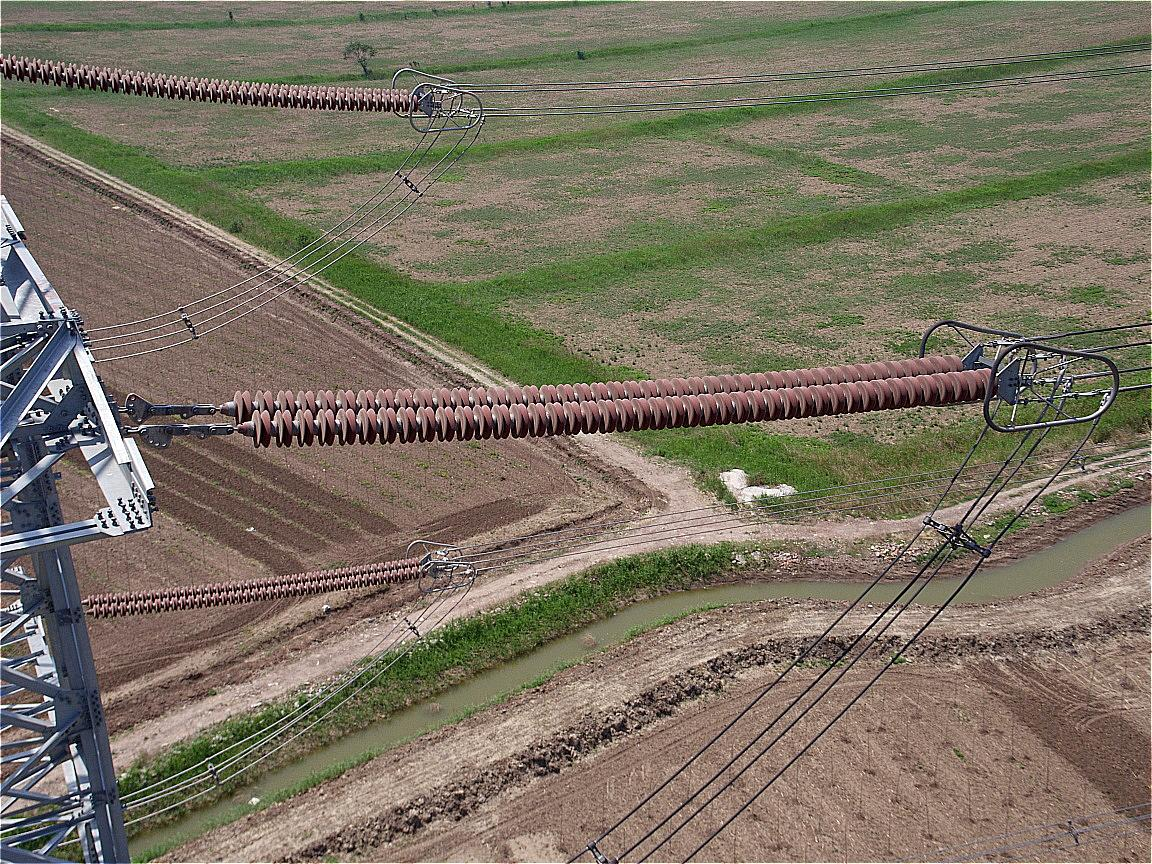insultor2: (210, 348, 1009, 462), (1, 36, 440, 122)
